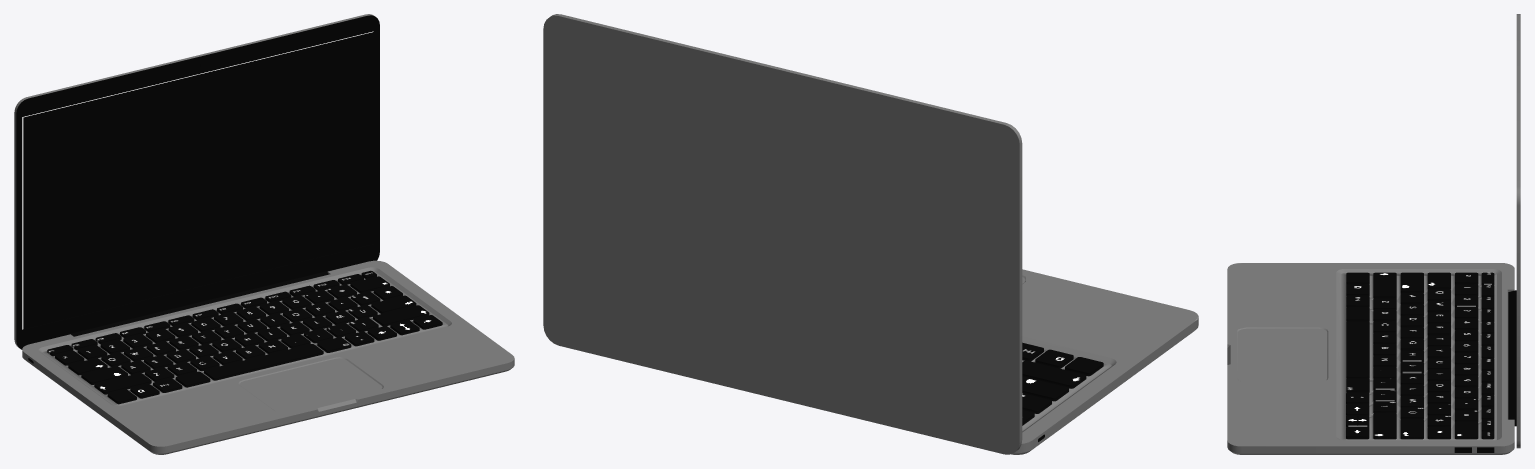
The model's file is MES_Laptop.glb.
The picture shows the model from 3 angles, left to right: view 1: azimuth 30°, elevation 25°; view 2: azimuth 150°, elevation 25°; view 3: azimuth 270°, elevation 25°; orthographic projection. The views are drawn at different scales.
Parts seen in each view (by area): view 1: MES_Display, Frame, Screen; view 2: Screen, Frame; view 3: Frame, Screen.
Part boxes in pixels (box(x1,y1,x2,y2)): MES_Display: box(23, 32, 373, 329); Frame: box(22, 260, 514, 454); Screen: box(14, 14, 379, 349); Screen: box(543, 14, 1022, 454); Frame: box(1011, 269, 1198, 454); Frame: box(1227, 263, 1514, 454); Screen: box(1508, 14, 1520, 448).
Bounding box in the file's own units: 30.4 × 20.56 × 20.5.
3 materials, 2 textured.
